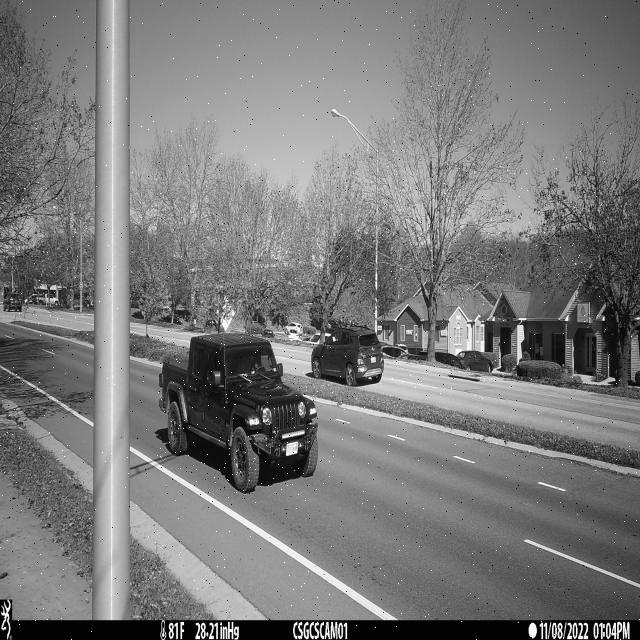Pickup: (158, 332, 319, 494)
